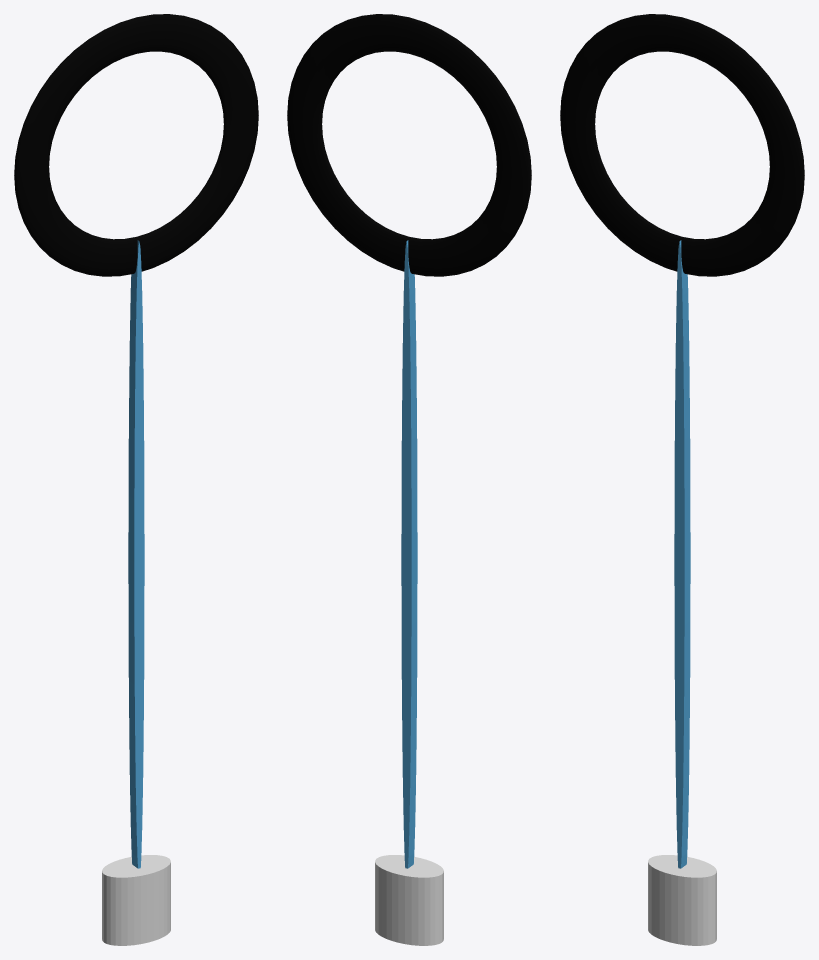
Rendered from Hoop_re.fbx.
The picture shows the model from 3 angles, left to right: view 1: azimuth 30°, elevation 25°; view 2: azimuth 150°, elevation 25°; view 3: azimuth 330°, elevation 25°; orthographic projection.
Visible parts, largest first — view 1: BezierCircle, Cylinder, Cylinder.001; view 2: BezierCircle, Cylinder, Cylinder.001; view 3: BezierCircle, Cylinder, Cylinder.001.
Boxes of the visible parts, x1,y1,x2,y2 form: BezierCircle: (14, 14, 258, 276); Cylinder: (128, 240, 144, 868); Cylinder.001: (102, 855, 170, 945); BezierCircle: (287, 14, 531, 276); Cylinder: (401, 240, 417, 868); Cylinder.001: (375, 855, 443, 945); BezierCircle: (560, 14, 804, 276); Cylinder: (674, 240, 690, 868); Cylinder.001: (648, 855, 716, 945).
Bounding box in the file's own units: 60 × 215 × 9.5.
